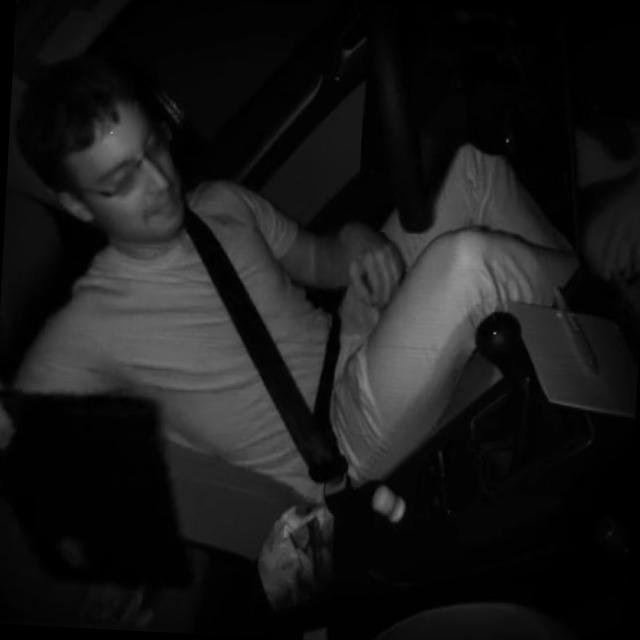pen: (547, 276, 607, 382)
